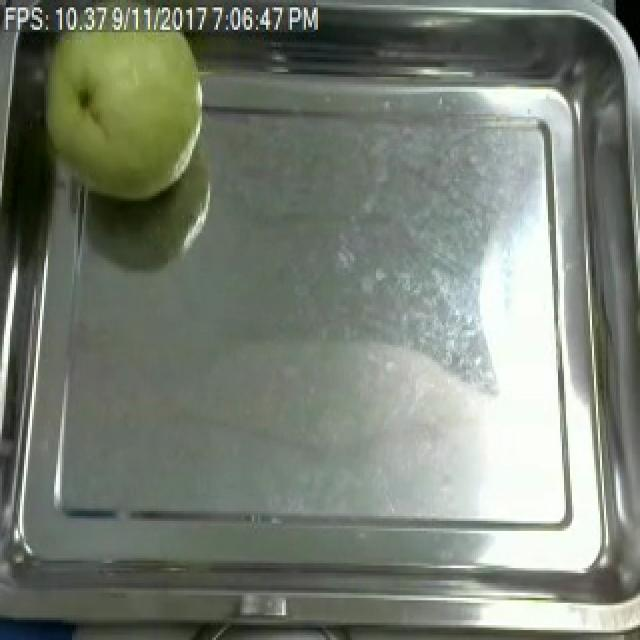Fruit: (6, 5, 216, 211)
